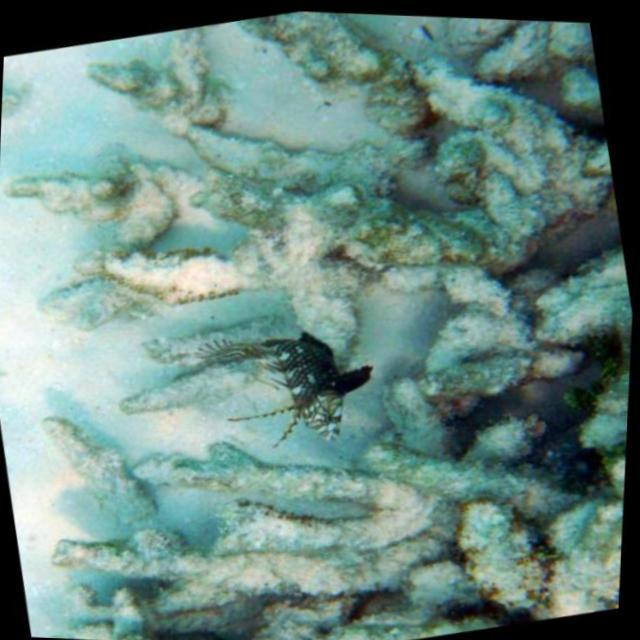Dead Coral: (0, 0, 637, 332), (15, 424, 626, 640)
